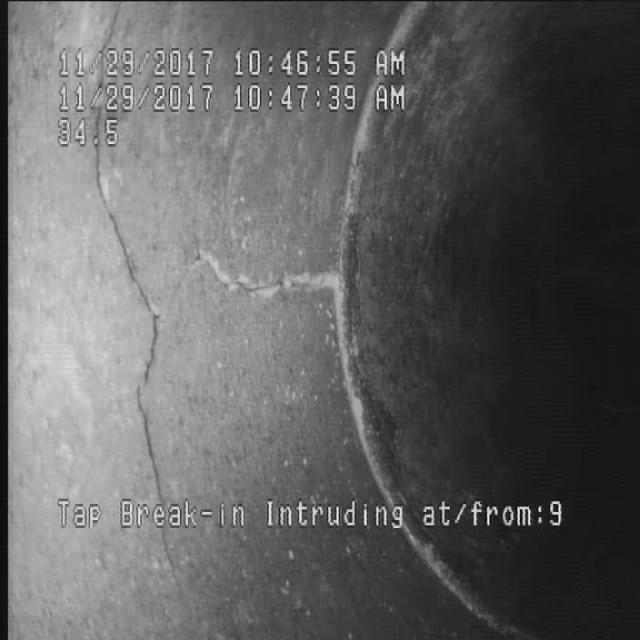Crack: (76, 146, 336, 488)
